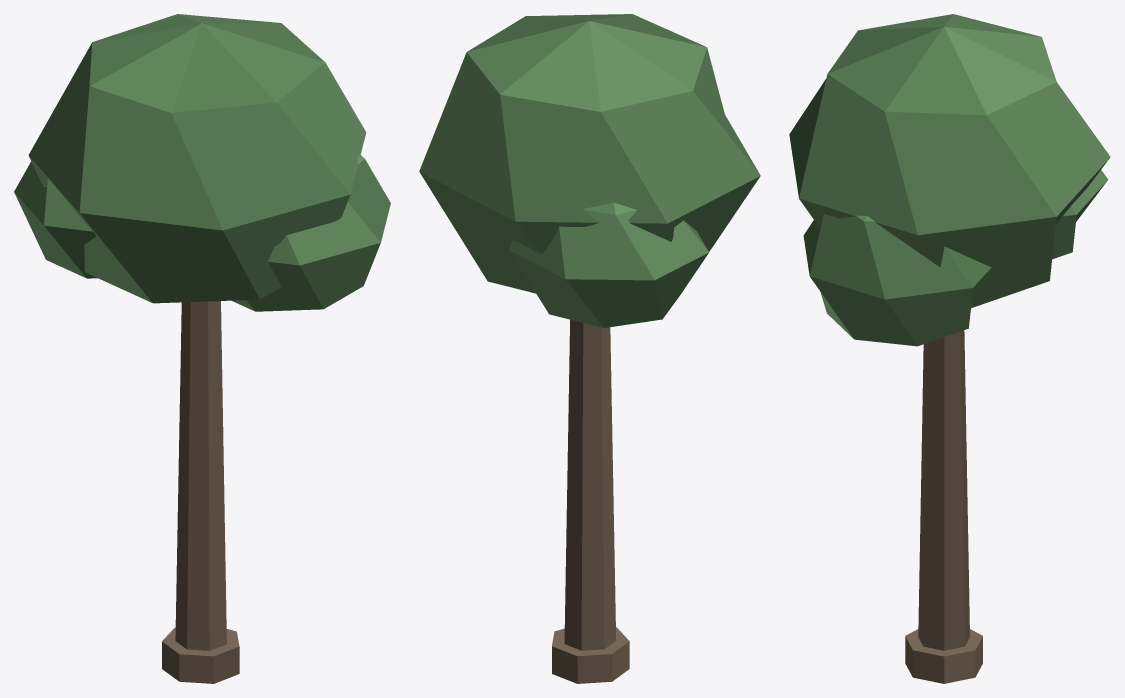
Rendered from SM_Kit_arvore_a.fbx.
The picture shows the model from 3 angles, left to right: view 1: azimuth 30°, elevation 25°; view 2: azimuth 150°, elevation 25°; view 3: azimuth 270°, elevation 25°; orthographic projection.
Parts seen in each view (by area): view 1: SM_Kit_arvore_a; view 2: SM_Kit_arvore_a; view 3: SM_Kit_arvore_a.
Part boxes in pixels (x1=…): SM_Kit_arvore_a: x1=14, y1=14, x2=390, y2=683; SM_Kit_arvore_a: x1=419, y1=14, x2=760, y2=683; SM_Kit_arvore_a: x1=789, y1=14, x2=1110, y2=683.
Size of what is drawn, in the model's own units: 290 by 583 by 265.
